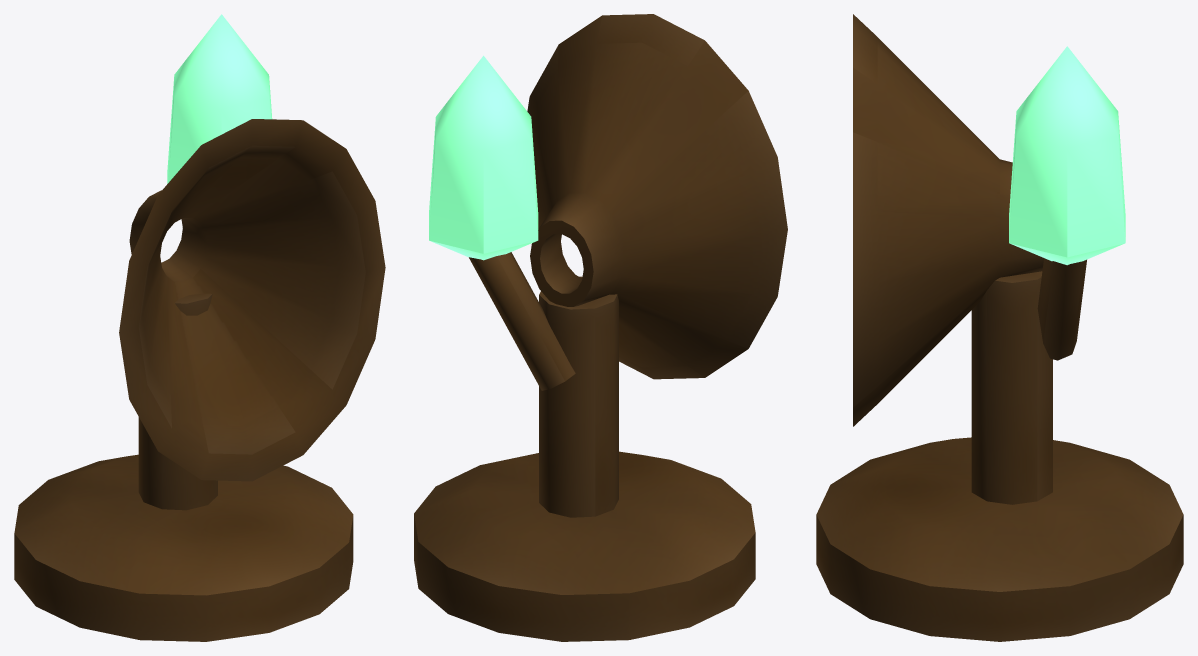
File: Furn_Place_EavesdropDevice.fbx
The picture shows the model from 3 angles, left to right: view 1: azimuth 30°, elevation 25°; view 2: azimuth 150°, elevation 25°; view 3: azimuth 270°, elevation 25°; orthographic projection. The views are drawn at different scales.
Visible parts, largest first — view 1: Furn_Place_EavesdropDevice; view 2: Furn_Place_EavesdropDevice; view 3: Furn_Place_EavesdropDevice.
Part boxes in pixels (left/top/right/bottom): Furn_Place_EavesdropDevice: left=14, top=14, right=385, bottom=641; Furn_Place_EavesdropDevice: left=414, top=14, right=787, bottom=641; Furn_Place_EavesdropDevice: left=816, top=14, right=1183, bottom=641.
Size of the model in its own units: 0.3 by 0.5 by 0.3.
2 materials, 1 textured.
